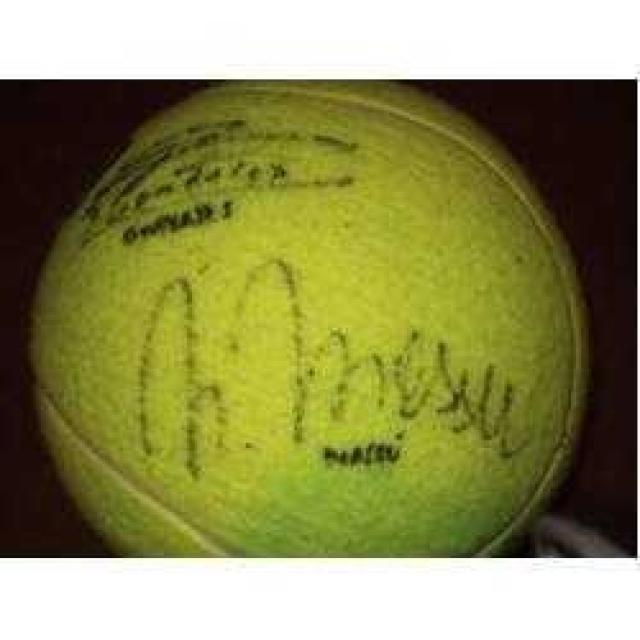Tennis_Ball: (38, 83, 582, 562)
